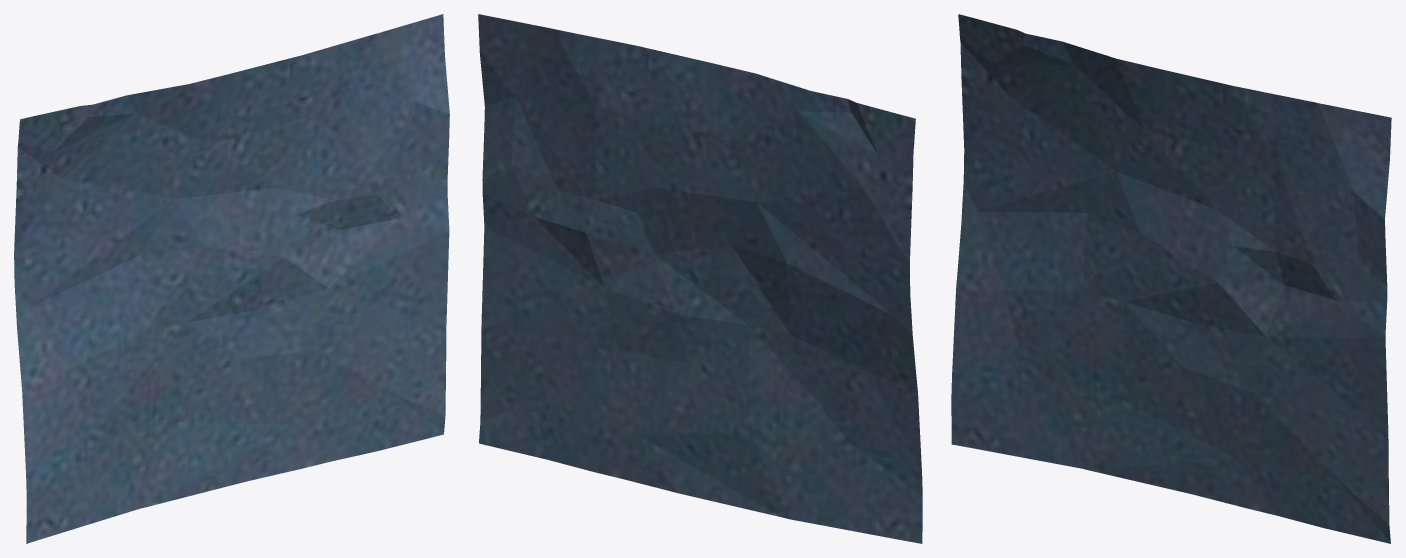
File: Tile_+003_+007_L23_000220.obj
3 renders of one model, left to right at view 1: azimuth 30°, elevation 25°; view 2: azimuth 150°, elevation 25°; view 3: azimuth 330°, elevation 25°, orthographic. The views are drawn at different scales.
Size of the model in its own units: 2.02 by 1.91 by 0.104.
1 material, 1 textured.
